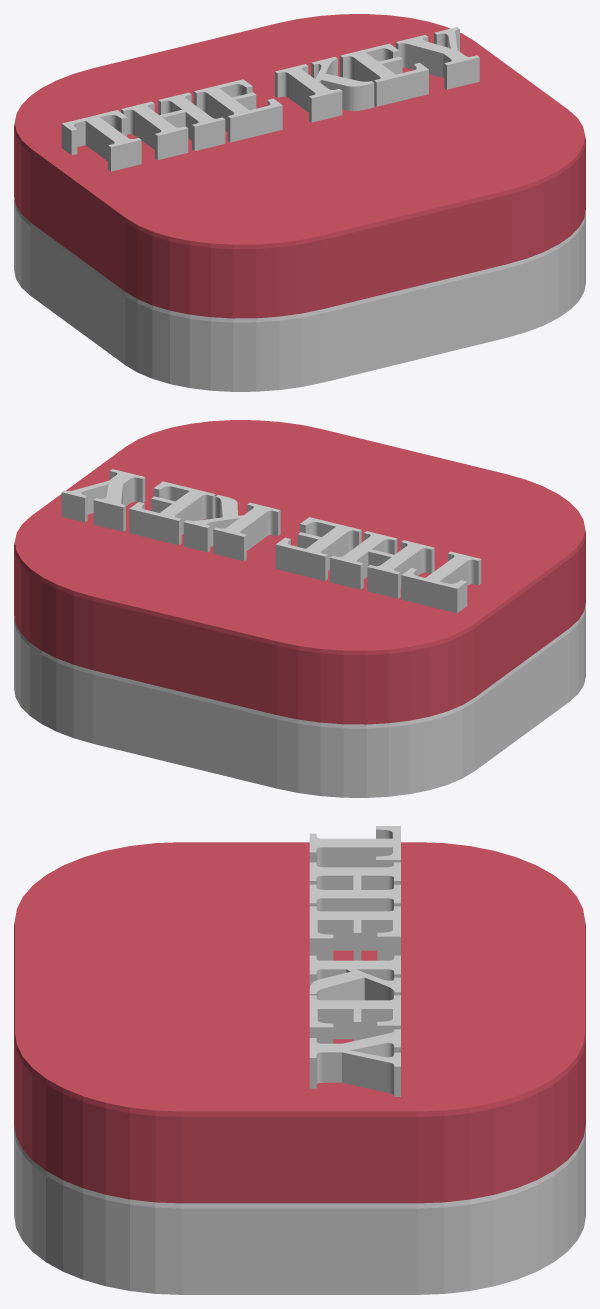
File: modelo.glb
3 views of the same model, one above another, from view 1: azimuth 30°, elevation 25°; view 2: azimuth 150°, elevation 25°; view 3: azimuth 270°, elevation 25° (orthographic). The views are drawn at different scales.
Visible parts, largest first — view 1: Mesh_Mesh_head_geo.001_lambert2SG.001; view 2: Mesh_Mesh_head_geo.001_lambert2SG.001; view 3: Mesh_Mesh_head_geo.001_lambert2SG.001.
Boxes of the visible parts, box(x1,y1,x2,y2) form: Mesh_Mesh_head_geo.001_lambert2SG.001: box(14, 14, 585, 391); Mesh_Mesh_head_geo.001_lambert2SG.001: box(14, 420, 585, 797); Mesh_Mesh_head_geo.001_lambert2SG.001: box(14, 826, 585, 1294).
Bounding box in the file's own units: 0.038 × 0.014 × 0.034.
